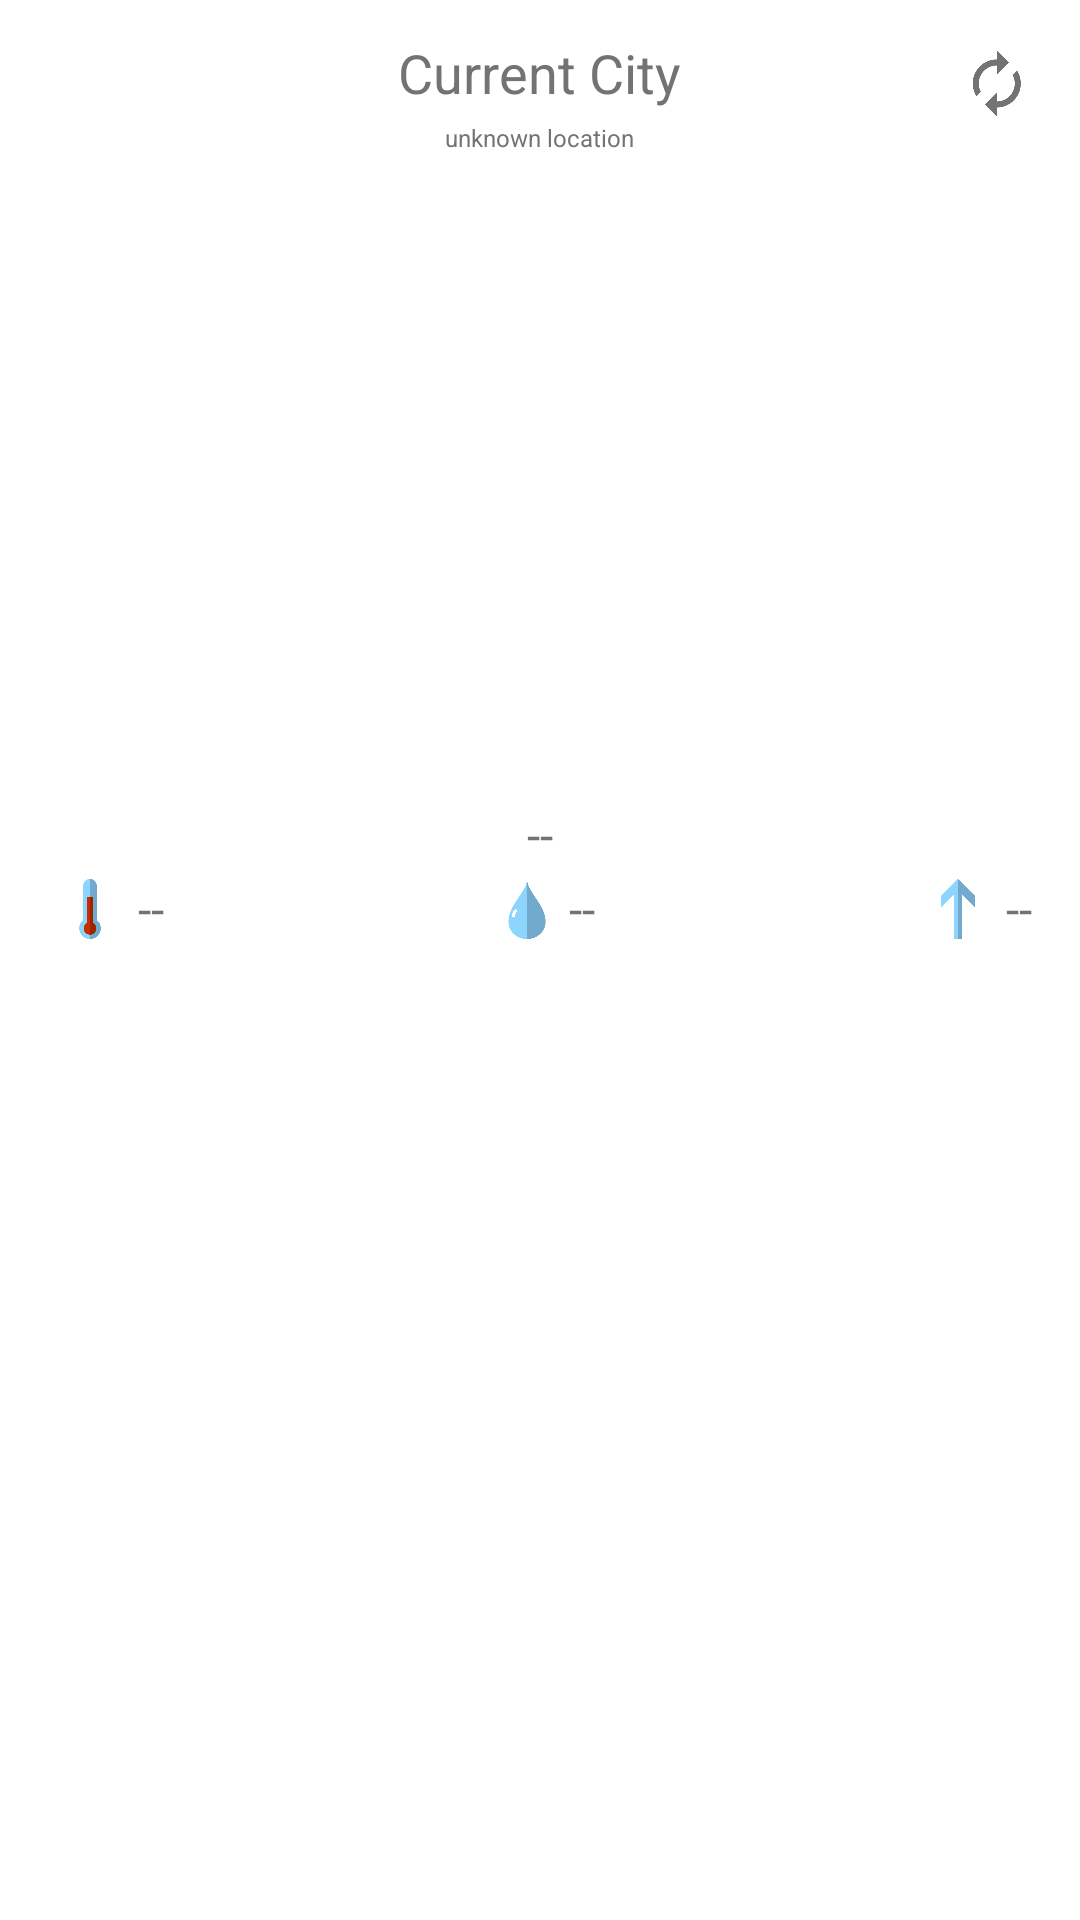

Named icons in this screenshot (1080*1920) and their centers, (x,y):
refresh: (997,83)
thermometer: (90,909)
water drop: (527,910)
wind direction: (958,909)
